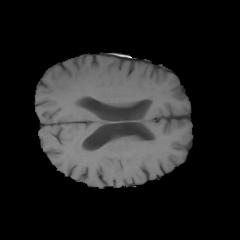glioma: (50, 67, 88, 105)
